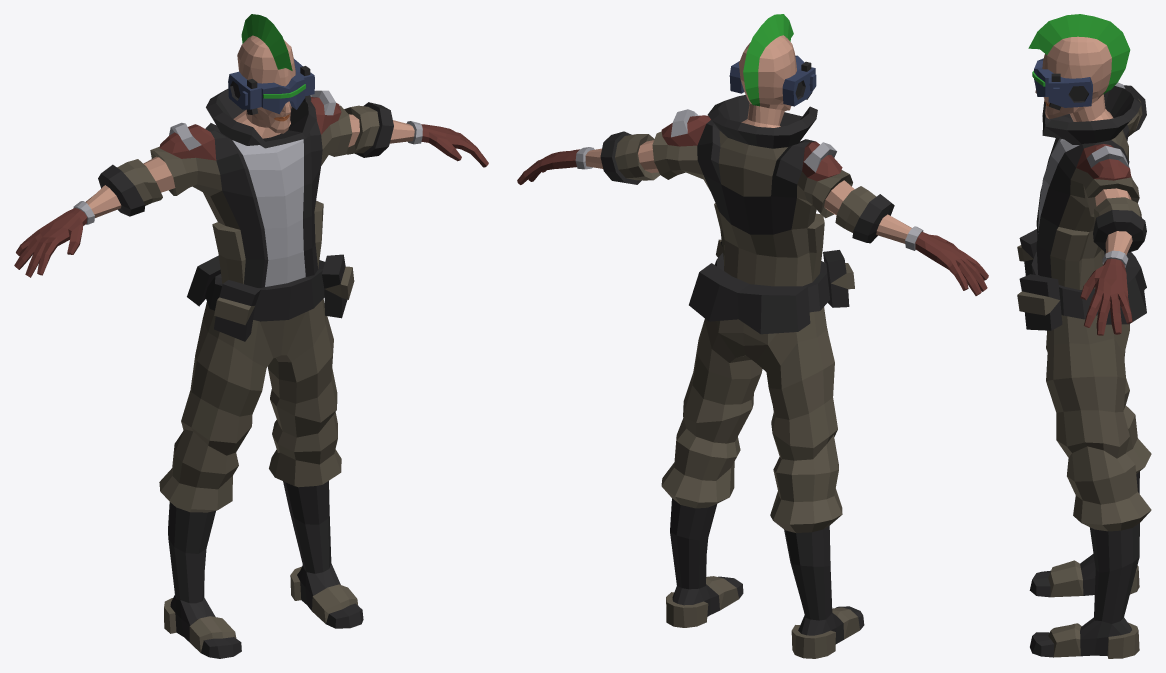
Rendered from Future_M_3.fbx.
3 renders of one model, left to right at view 1: azimuth 30°, elevation 25°; view 2: azimuth 150°, elevation 25°; view 3: azimuth 270°, elevation 25°, orthographic.
Parts seen in each view (by area): view 1: Future_M_3, Future_M_3.003, Future_M_3.001, Future_M_3.002; view 2: Future_M_3, Future_M_3.002, Future_M_3.003; view 3: Future_M_3, Future_M_3.001, Future_M_3.002, Future_M_3.003.
Boxes of the visible parts, <box> form: Future_M_3: <box>14,14,488,658</box>; Future_M_3.003: <box>214,280,260,341</box>; Future_M_3.001: <box>322,254,354,318</box>; Future_M_3.002: <box>187,255,220,306</box>; Future_M_3: <box>517,14,988,658</box>; Future_M_3.002: <box>689,263,810,334</box>; Future_M_3.003: <box>823,250,854,307</box>; Future_M_3: <box>1028,14,1151,658</box>; Future_M_3.001: <box>1017,274,1062,330</box>; Future_M_3.002: <box>1104,251,1146,324</box>; Future_M_3.003: <box>1017,229,1037,275</box>.
Bounding box in the file's own units: 150 × 186 × 37.49.
Materials: 1 (1 with a texture image).
